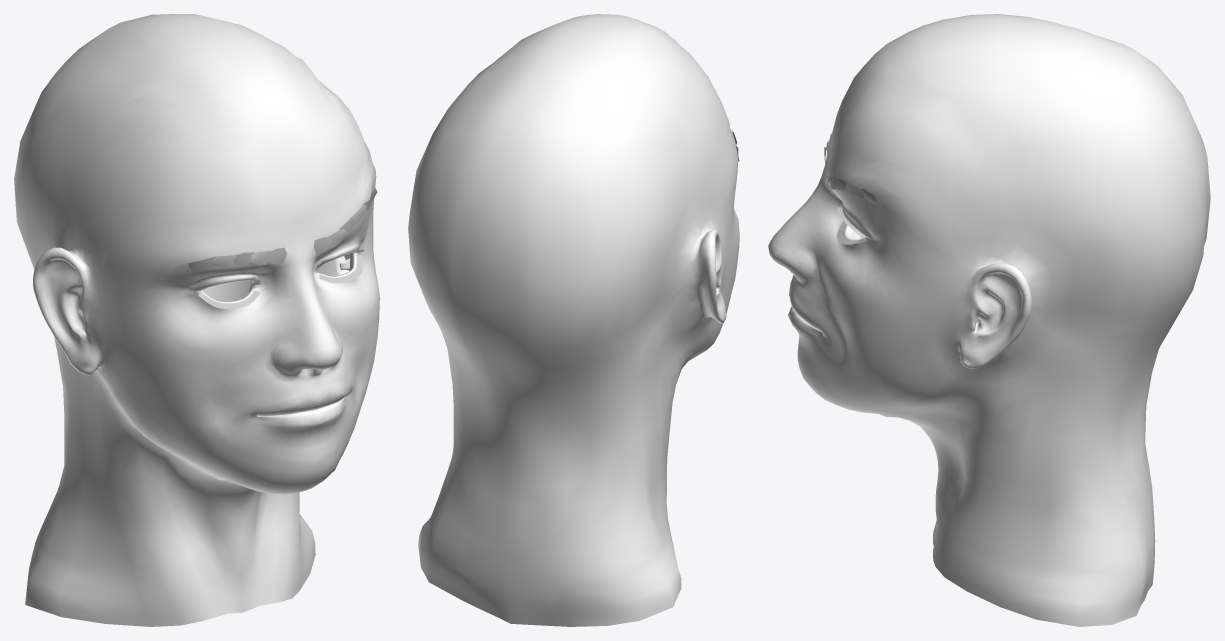
The model's file is browOuterUpLeft.obj.
The picture shows the model from 3 angles, left to right: view 1: azimuth 30°, elevation 25°; view 2: azimuth 150°, elevation 25°; view 3: azimuth 270°, elevation 25°; orthographic projection. The views are drawn at different scales.
Parts seen in each view (by area): view 1: FaceMesh_Plane.003; view 2: FaceMesh_Plane.003; view 3: FaceMesh_Plane.003.
Boxes of the visible parts, box(x1,y1,x2,y2) form: FaceMesh_Plane.003: box(14, 14, 379, 626); FaceMesh_Plane.003: box(408, 14, 739, 626); FaceMesh_Plane.003: box(768, 14, 1210, 626).
Bounding box in the file's own units: 1.54 × 2.71 × 1.94.
Materials: 5 (1 with a texture image).
